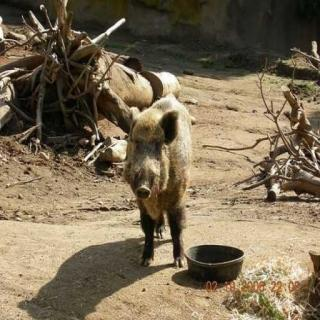Pig: (119, 94, 198, 270)
